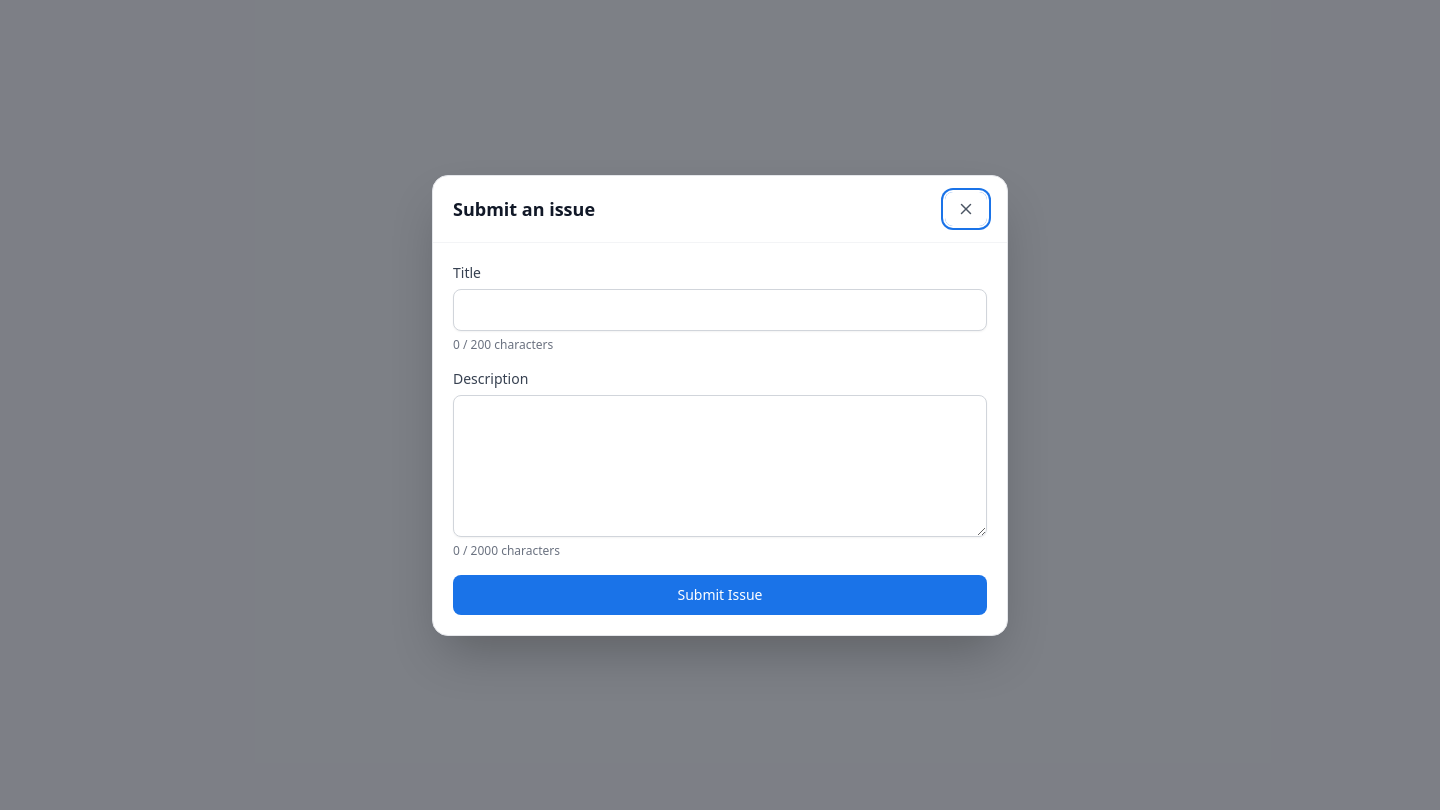
Scenario: SubmitIssueModal › shows backend errors and keeps entered text after a failed request
Type "Checkout issue" into the field labelled "Title" at (720, 310), box [453, 288, 987, 330]
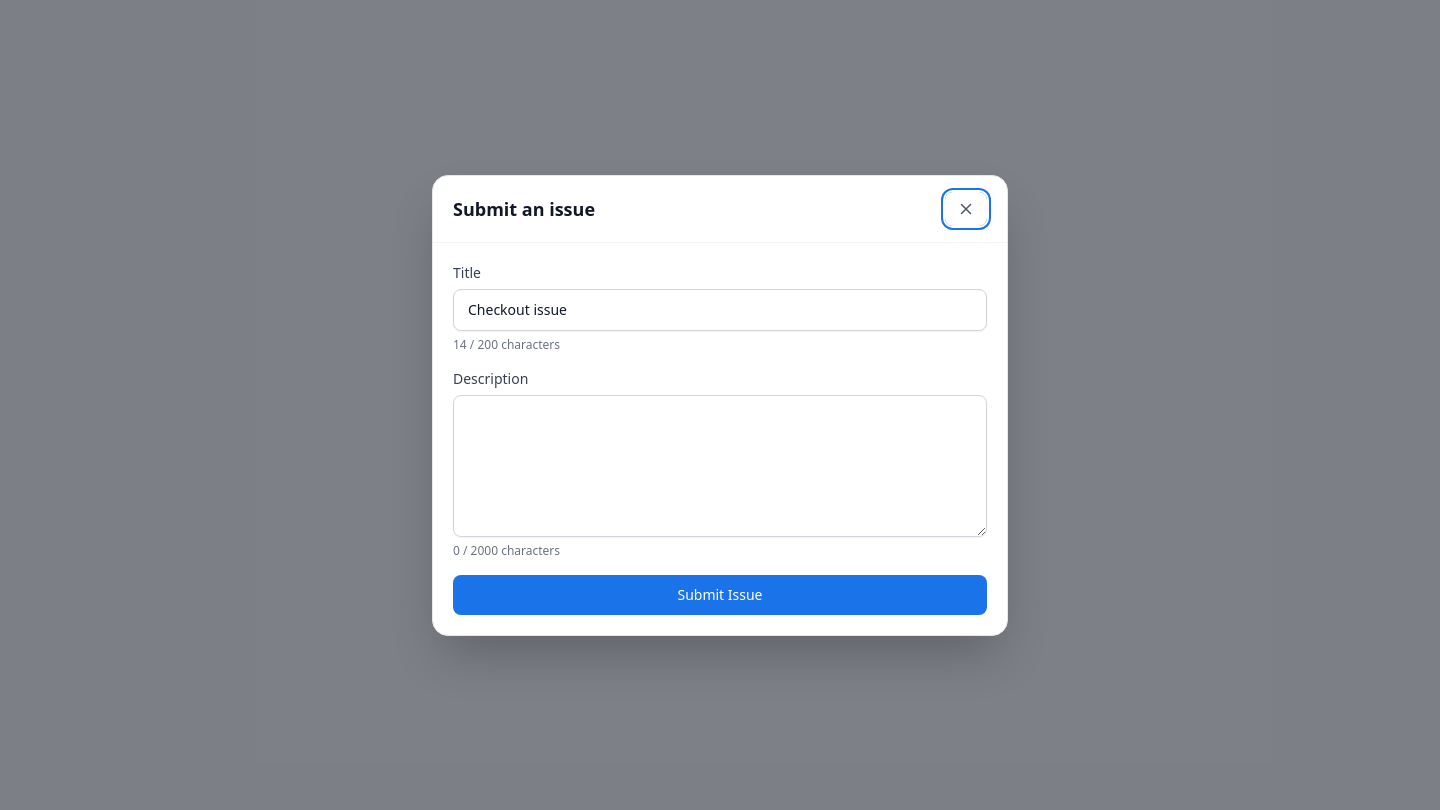
Type "Payment checkout is not working." into the text box labelled "Description" at (720, 466), box [453, 394, 987, 536]
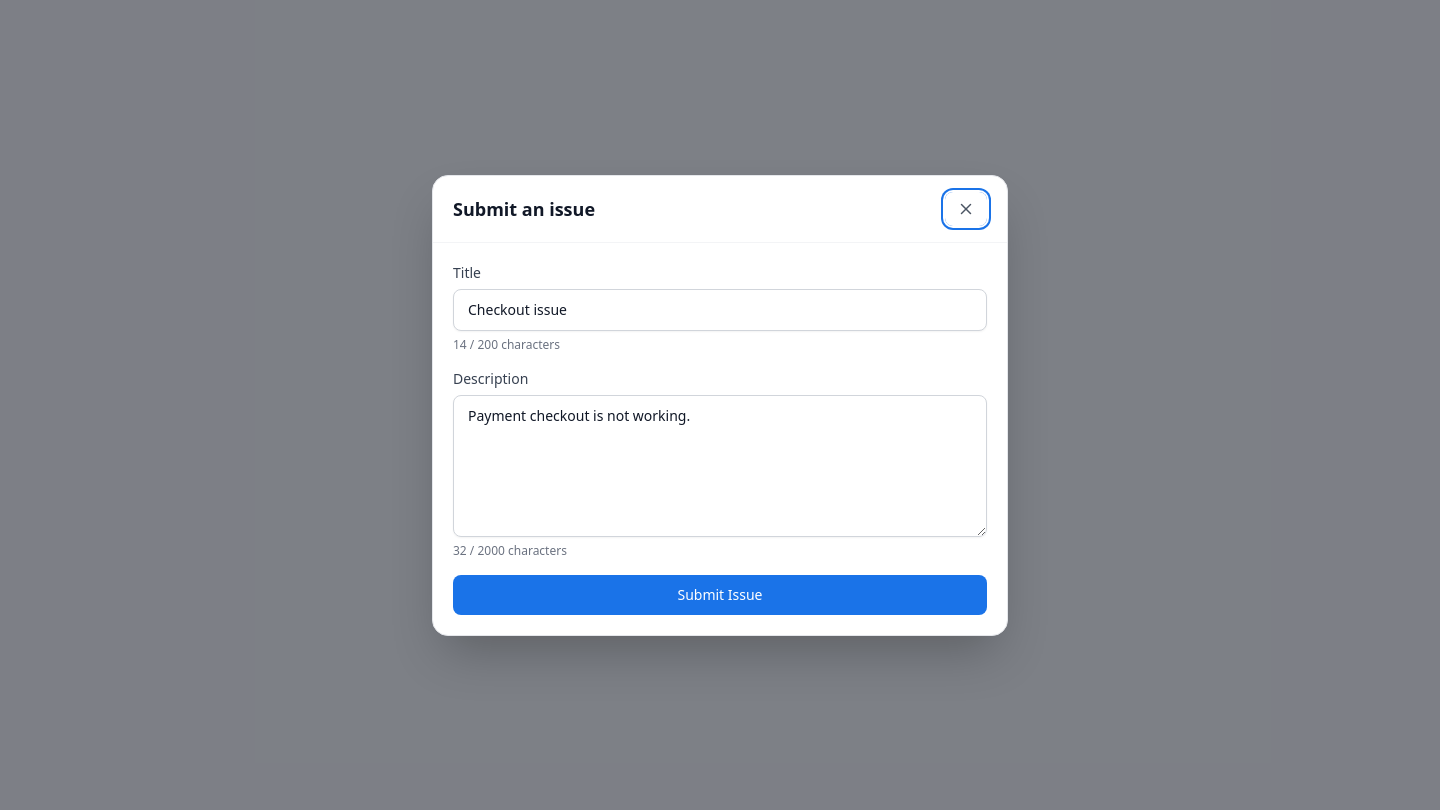
Click the button "Submit Issue" at (720, 594), box [453, 574, 987, 614]
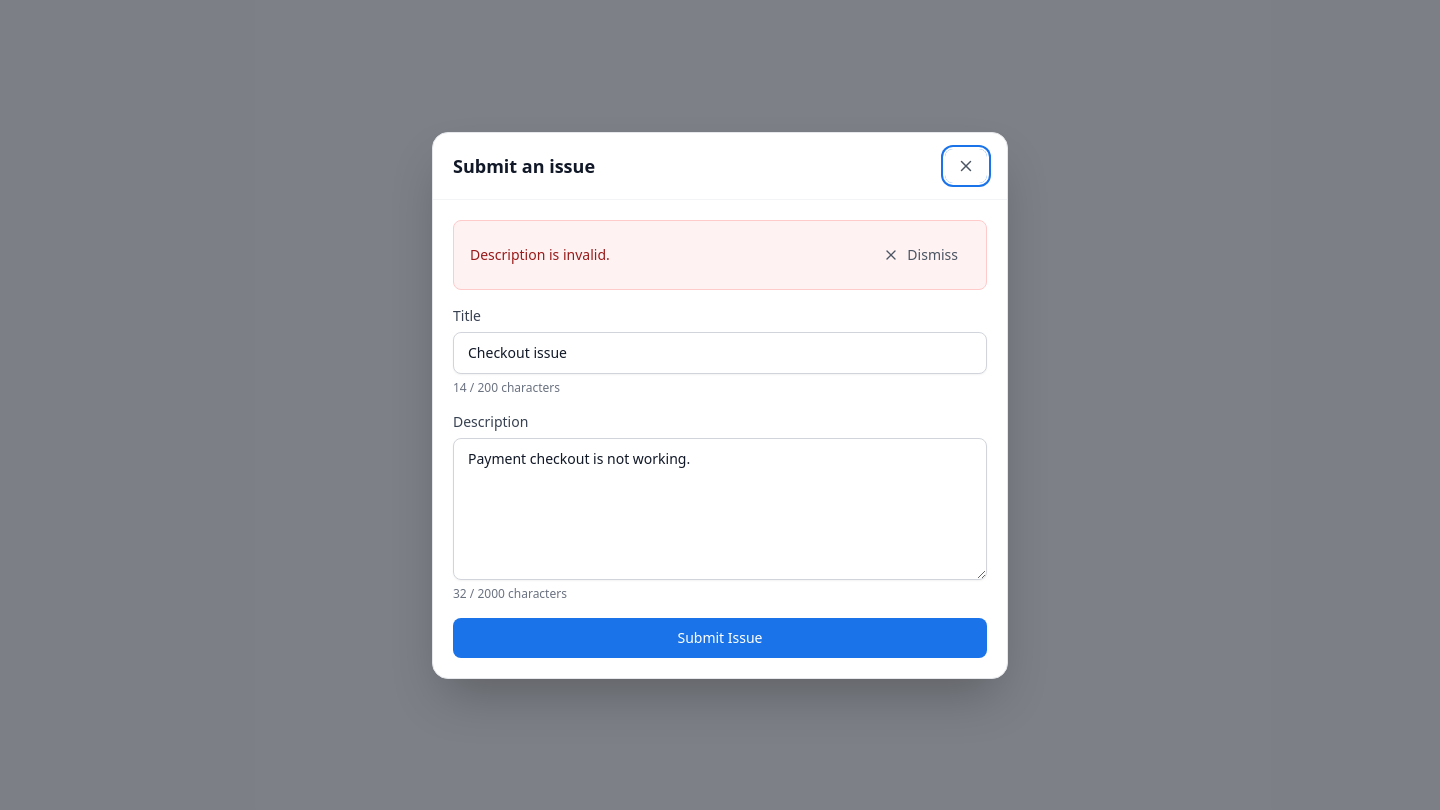
Expected: the message shows "Description is invalid.", [470, 244, 610, 264]
